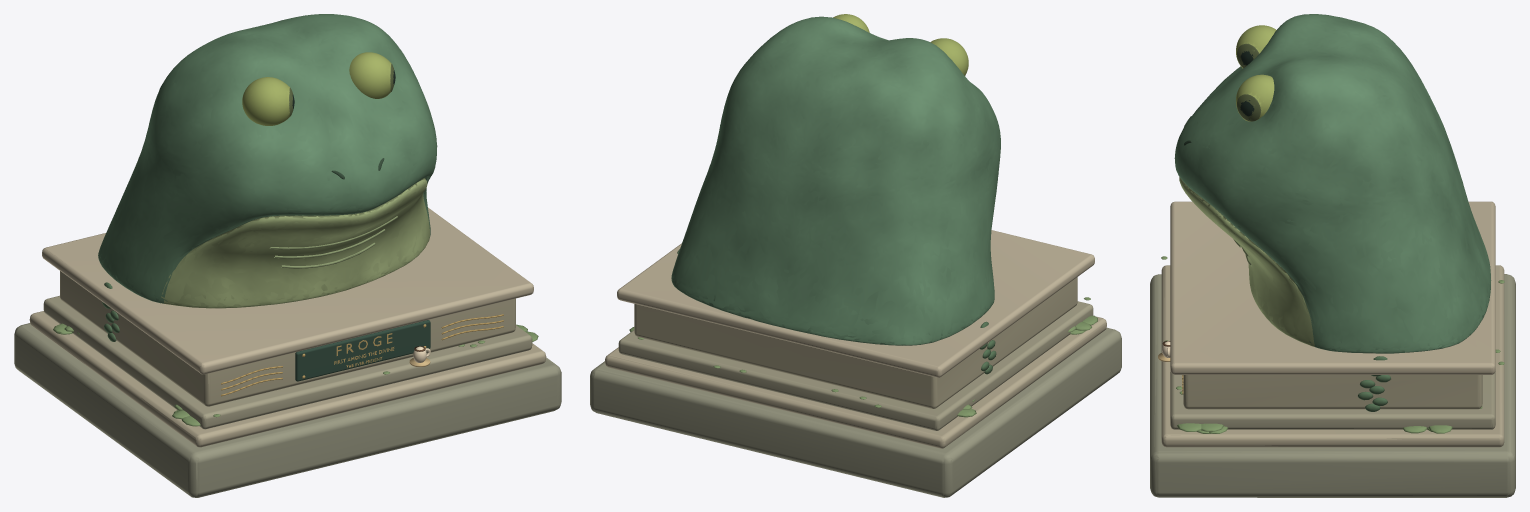
Rendered from froge-statue.glb.
3 views of the same model, side by side, from view 1: azimuth 30°, elevation 25°; view 2: azimuth 150°, elevation 25°; view 3: azimuth 270°, elevation 25° (orthographic). The views are drawn at different scales.
Parts seen in each view (by area): view 1: froge_High Froge weathered limestone, froge_High Froge cast bronze with green patina, froge_Low Froge cast bronze with green patina, froge_High Froge plaque enamel, froge_High Froge polished eye inlays, froge_Low Froge weathered limestone, froge_High Froge aged brass, froge_Low Froge polished eye inlays, froge_High World #87966a, froge_High Froge moss; view 2: froge_High Froge weathered limestone, froge_High Froge cast bronze with green patina, froge_Low Froge cast bronze with green patina, froge_Low Froge weathered limestone, froge_High Froge polished eye inlays; view 3: froge_High Froge weathered limestone, froge_High Froge cast bronze with green patina, froge_Low Froge cast bronze with green patina, froge_Low Froge weathered limestone, froge_High Froge polished eye inlays, froge_High Froge moss, froge_Low Froge polished eye inlays, froge_High Froge ivy.
Boxes of the visible parts, x1=… form: froge_High Froge weathered limestone: x1=15, y1=207, x2=561, y2=497; froge_High Froge cast bronze with green patina: x1=98, y1=14, x2=437, y2=308; froge_Low Froge cast bronze with green patina: x1=98, y1=14, x2=436, y2=308; froge_High Froge plaque enamel: x1=295, y1=320, x2=430, y2=381; froge_High Froge polished eye inlays: x1=242, y1=52, x2=395, y2=125; froge_Low Froge weathered limestone: x1=14, y1=248, x2=561, y2=497; froge_High Froge aged brass: x1=221, y1=314, x2=503, y2=396; froge_Low Froge polished eye inlays: x1=242, y1=52, x2=395, y2=125; froge_High World #87966a: x1=270, y1=216, x2=397, y2=268; froge_High Froge moss: x1=53, y1=323, x2=538, y2=426; froge_High Froge weathered limestone: x1=590, y1=230, x2=1121, y2=497; froge_High Froge cast bronze with green patina: x1=671, y1=16, x2=1000, y2=345; froge_Low Froge cast bronze with green patina: x1=671, y1=16, x2=1000, y2=345; froge_Low Froge weathered limestone: x1=590, y1=254, x2=1121, y2=497; froge_High Froge polished eye inlays: x1=833, y1=14, x2=968, y2=75; froge_High Froge weathered limestone: x1=1150, y1=201, x2=1515, y2=497; froge_High Froge cast bronze with green patina: x1=1175, y1=14, x2=1491, y2=353; froge_Low Froge cast bronze with green patina: x1=1174, y1=14, x2=1490, y2=353; froge_Low Froge weathered limestone: x1=1150, y1=201, x2=1515, y2=497; froge_High Froge polished eye inlays: x1=1236, y1=25, x2=1276, y2=121; froge_High Froge moss: x1=1161, y1=256, x2=1504, y2=433; froge_Low Froge polished eye inlays: x1=1236, y1=25, x2=1275, y2=121; froge_High Froge ivy: x1=1358, y1=356, x2=1390, y2=411.
Size of the model in its own units: 6.65 by 6.17 by 5.6.
